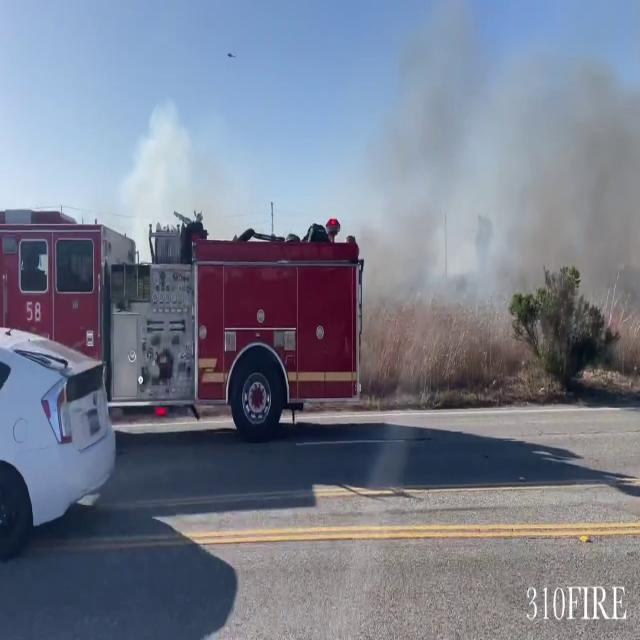Smoke: (354, 8, 640, 360)
